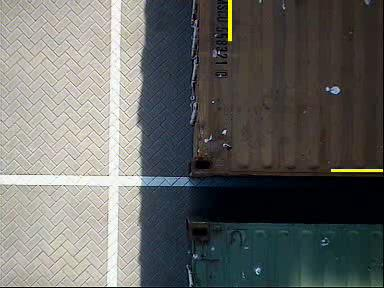groundmarker_2: (90, 175, 144, 205), (87, 158, 140, 187)
